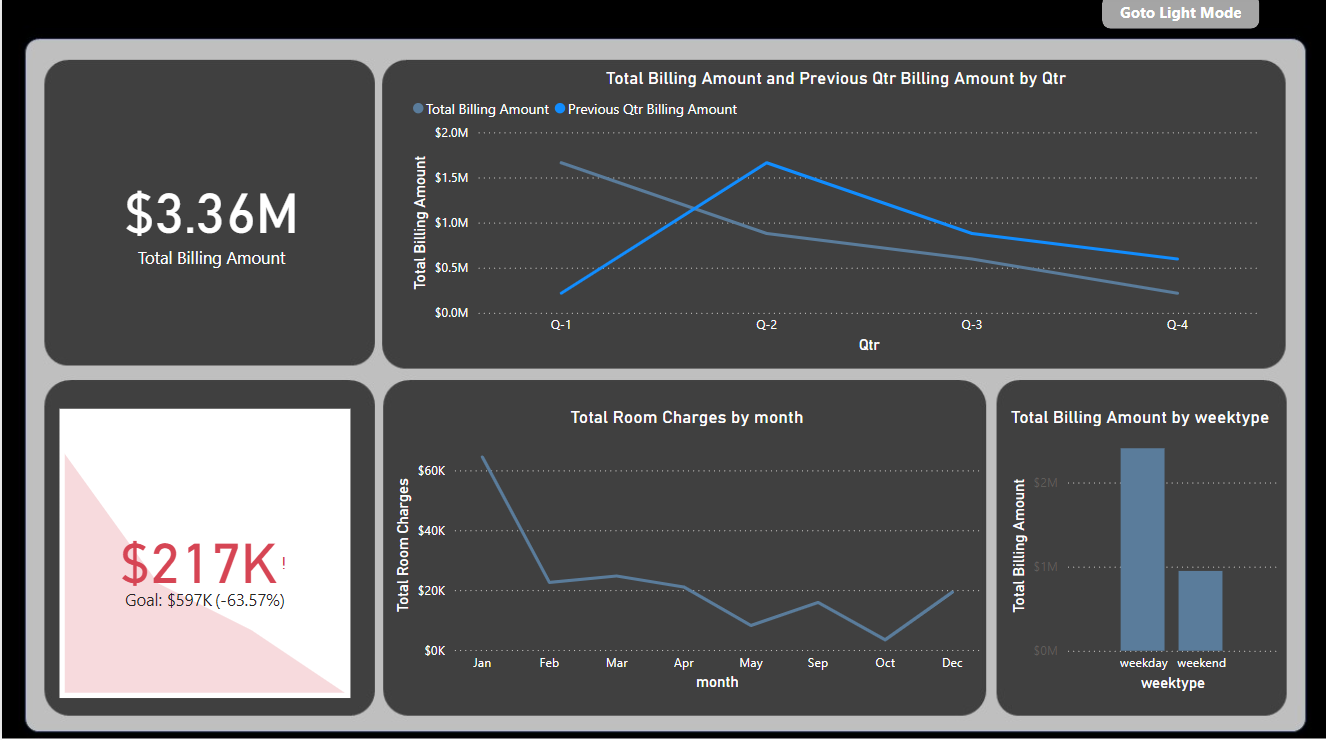

The dashboard page shown, as its layout file describes it:
{"tool":"powerbi","page":{"name":"Trend Analys dark","canvas":[1280,720],"ordinal":3},"visuals":[{"type":"card","fields":{"Values":["measureTable.Total Billing Amount"]},"box":[56.1,79.3,293.9,270.7],"z":0},{"type":"kpi","title":"Total  Amount and Previous Qtr Amount ","fields":{"Indicator":["measureTable.Total Billing Amount"],"Goal":["measureTable.Previous Month Billing Amount"],"TrendLine":["calender Table.Qtr"]},"box":[56.1,398.8,280.5,279.3],"z":1000},{"type":"lineChart","fields":{"Y":["measureTable.Total Billing Amount"],"Y2":["measureTable.Previous Qtr Billing Amount"],"Category":["calender Table.Qtr"]},"box":[391.5,69.5,828,280.5],"z":2000},{"type":"lineChart","fields":{"Category":["calender Table.month"],"Y":["measureTable.Total Room Charges"]},"box":[374.4,396.3,574.4,279.3],"z":3000},{"type":"columnChart","fields":{"Y":["measureTable.Total Billing Amount"],"Category":["calender Table.weektype"]},"box":[969,397,267,280],"z":4000},{"type":"actionButton","box":[1061.7,0,152,32.6],"z":5000}]}

Visuals, with their boxes in screenshot pixels (x1, y1, x2, y2), scaled from the page's 1280x720 canvas onto the 1326x740 screenshot:
card - measureTable.Total Billing Amount: (x1=58, y1=82, x2=363, y2=360)
"Total  Amount and Previous Qtr Amount " kpi: (x1=58, y1=410, x2=349, y2=697)
lineChart - measureTable.Total Billing Amount x measureTable.Previous Qtr Billing Amount: (x1=406, y1=71, x2=1263, y2=360)
lineChart - calender Table.month x measureTable.Total Room Charges: (x1=388, y1=407, x2=983, y2=694)
columnChart - measureTable.Total Billing Amount x calender Table.weektype: (x1=1004, y1=408, x2=1280, y2=696)
actionButton: (x1=1100, y1=0, x2=1257, y2=34)
